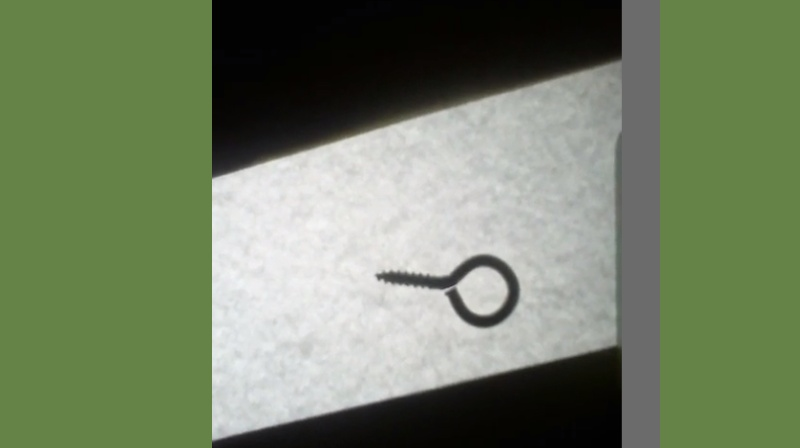O001: (372, 249, 522, 330)
